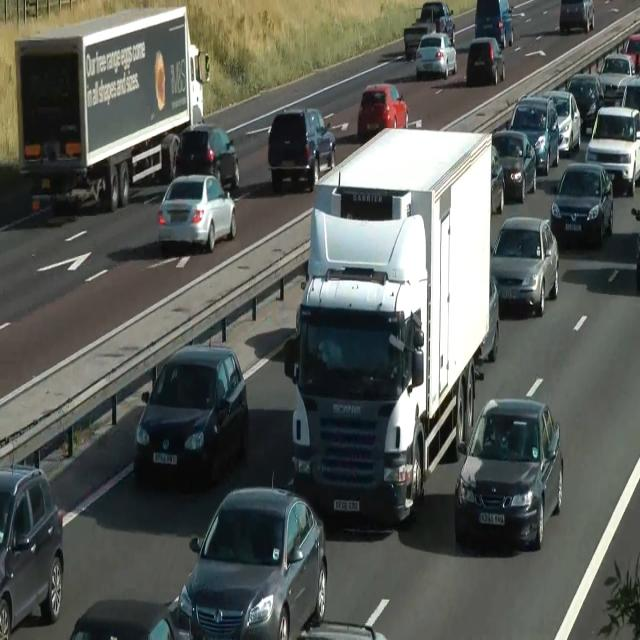bus: (176, 479, 328, 639), (454, 397, 563, 551), (0, 460, 64, 639), (490, 216, 559, 316), (156, 174, 236, 252), (550, 162, 614, 248), (170, 123, 240, 190), (70, 598, 176, 639), (491, 129, 537, 203), (357, 82, 409, 140), (473, 274, 499, 378), (542, 90, 581, 156), (564, 73, 604, 134), (465, 36, 505, 86), (598, 53, 636, 105), (415, 32, 457, 79), (415, 1, 455, 45), (296, 620, 388, 639), (559, 0, 595, 34), (403, 22, 433, 60), (490, 144, 504, 214), (616, 74, 640, 111), (620, 32, 640, 72), (630, 207, 640, 286)
jeep: (133, 342, 249, 486), (266, 107, 336, 192), (585, 105, 639, 195), (508, 96, 560, 174), (474, 0, 514, 48)
minibus: (283, 125, 495, 526), (13, 4, 210, 214)
